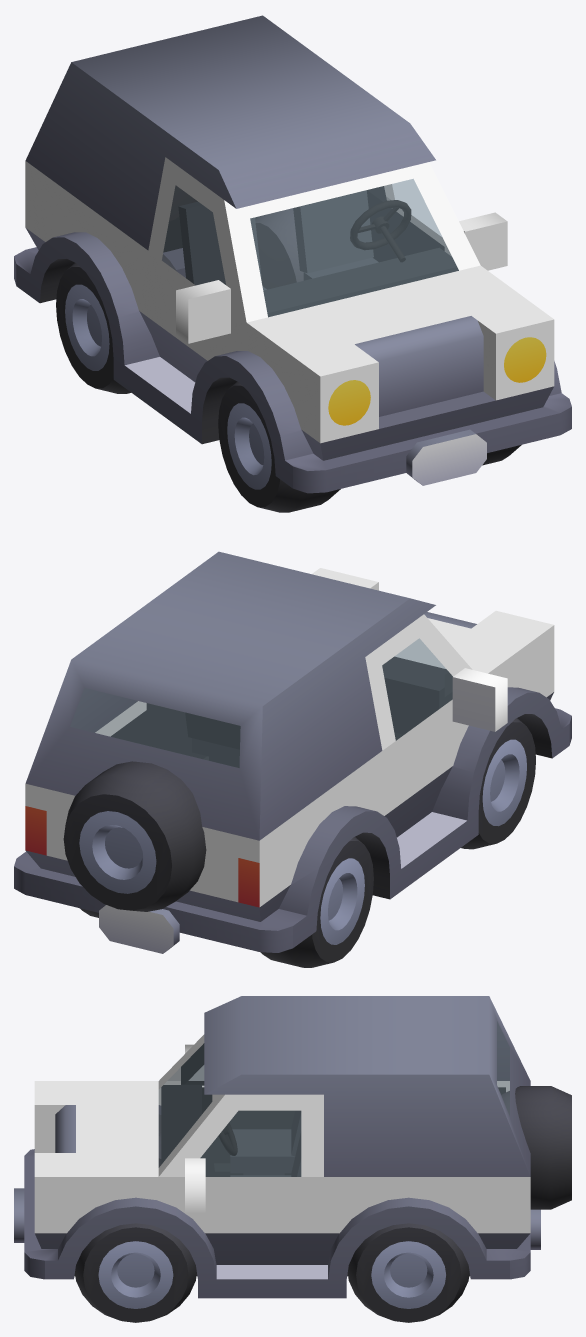
Rendered from suv.glb.
3 renders of one model, top to bottom at view 1: azimuth 30°, elevation 25°; view 2: azimuth 150°, elevation 25°; view 3: azimuth 270°, elevation 25°, orthographic. The views are drawn at different scales.
Parts seen in each view (by area): view 1: body, paint, glass, interior, door-front-right-paint, wheel-front-right, wheel-back-right, door-front-right-glass, wheel-back-left, door-front-right-panel, steering-wheel, door-front-left-glass (+1 smaller); view 2: body, paint, interior, door-front-right-paint, glass, wheel-back-right, wheel-front-right, door-front-right-glass, door-front-right-panel; view 3: body, paint, door-front-left-paint, wheel-front-left, wheel-back-left, interior, door-front-left-glass, door-front-left-panel, glass, door-front-right-trim.
Part boxes in pixels (<box>): body: <box>14,15,571,493</box>; paint: <box>25,157,554,443</box>; glass: <box>250,179,458,316</box>; interior: <box>163,190,458,317</box>; door-front-right-paint: <box>138,175,238,360</box>; wheel-front-right: <box>218,381,340,512</box>; wheel-back-right: <box>56,254,176,393</box>; door-front-right-glass: <box>162,186,225,284</box>; wheel-back-left: <box>255,208,303,289</box>; door-front-right-panel: <box>117,168,207,406</box>; steering-wheel: <box>350,200,411,262</box>; door-front-left-glass: <box>392,179,441,236</box>; body: <box>14,551,571,953</box>; paint: <box>25,568,554,906</box>; interior: <box>111,656,452,767</box>; door-front-right-paint: <box>368,627,507,815</box>; glass: <box>70,639,445,767</box>; wheel-back-right: <box>260,837,373,967</box>; wheel-front-right: <box>461,718,535,849</box>; door-front-right-glass: <box>382,638,452,740</box>; door-front-right-panel: <box>359,675,474,861</box>; body: <box>14,996,571,1298</box>; paint: <box>34,1034,530,1233</box>; door-front-left-paint: <box>181,1110,339,1233</box>; wheel-front-left: <box>75,1223,196,1322</box>; wheel-back-left: <box>347,1223,469,1322</box>; interior: <box>161,1085,505,1274</box>; door-front-left-glass: <box>201,1111,300,1176</box>; door-front-left-panel: <box>204,1110,339,1268</box>; glass: <box>159,1021,509,1166</box>; door-front-right-trim: <box>181,1043,230,1171</box>.
Bounding box in the file's own units: 2.4 × 2.08 × 4.32.
4 materials, 1 textured.
